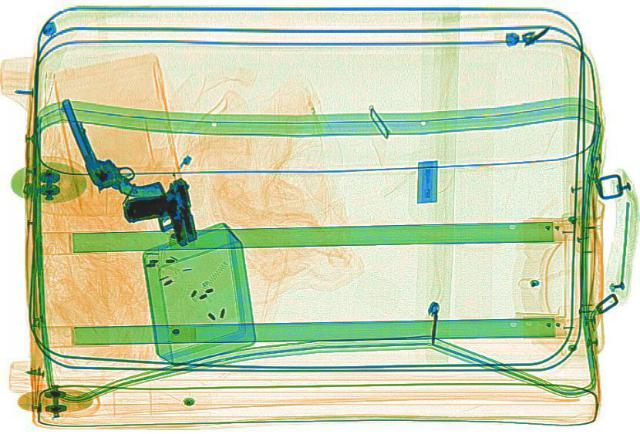Gun: (51, 88, 162, 205), (115, 177, 197, 245)
